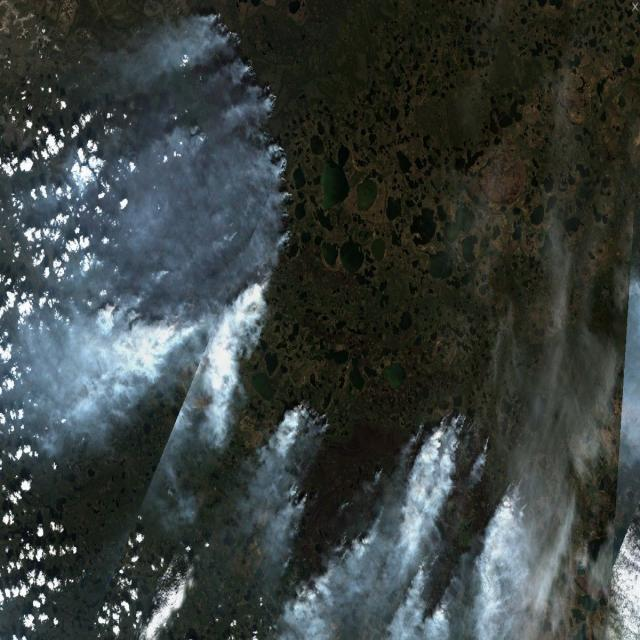fire: (198, 11, 300, 260), (400, 389, 498, 487), (282, 382, 341, 456), (408, 545, 456, 625), (272, 473, 330, 535), (504, 471, 536, 519), (370, 500, 390, 528), (367, 464, 389, 488), (340, 490, 355, 518)
